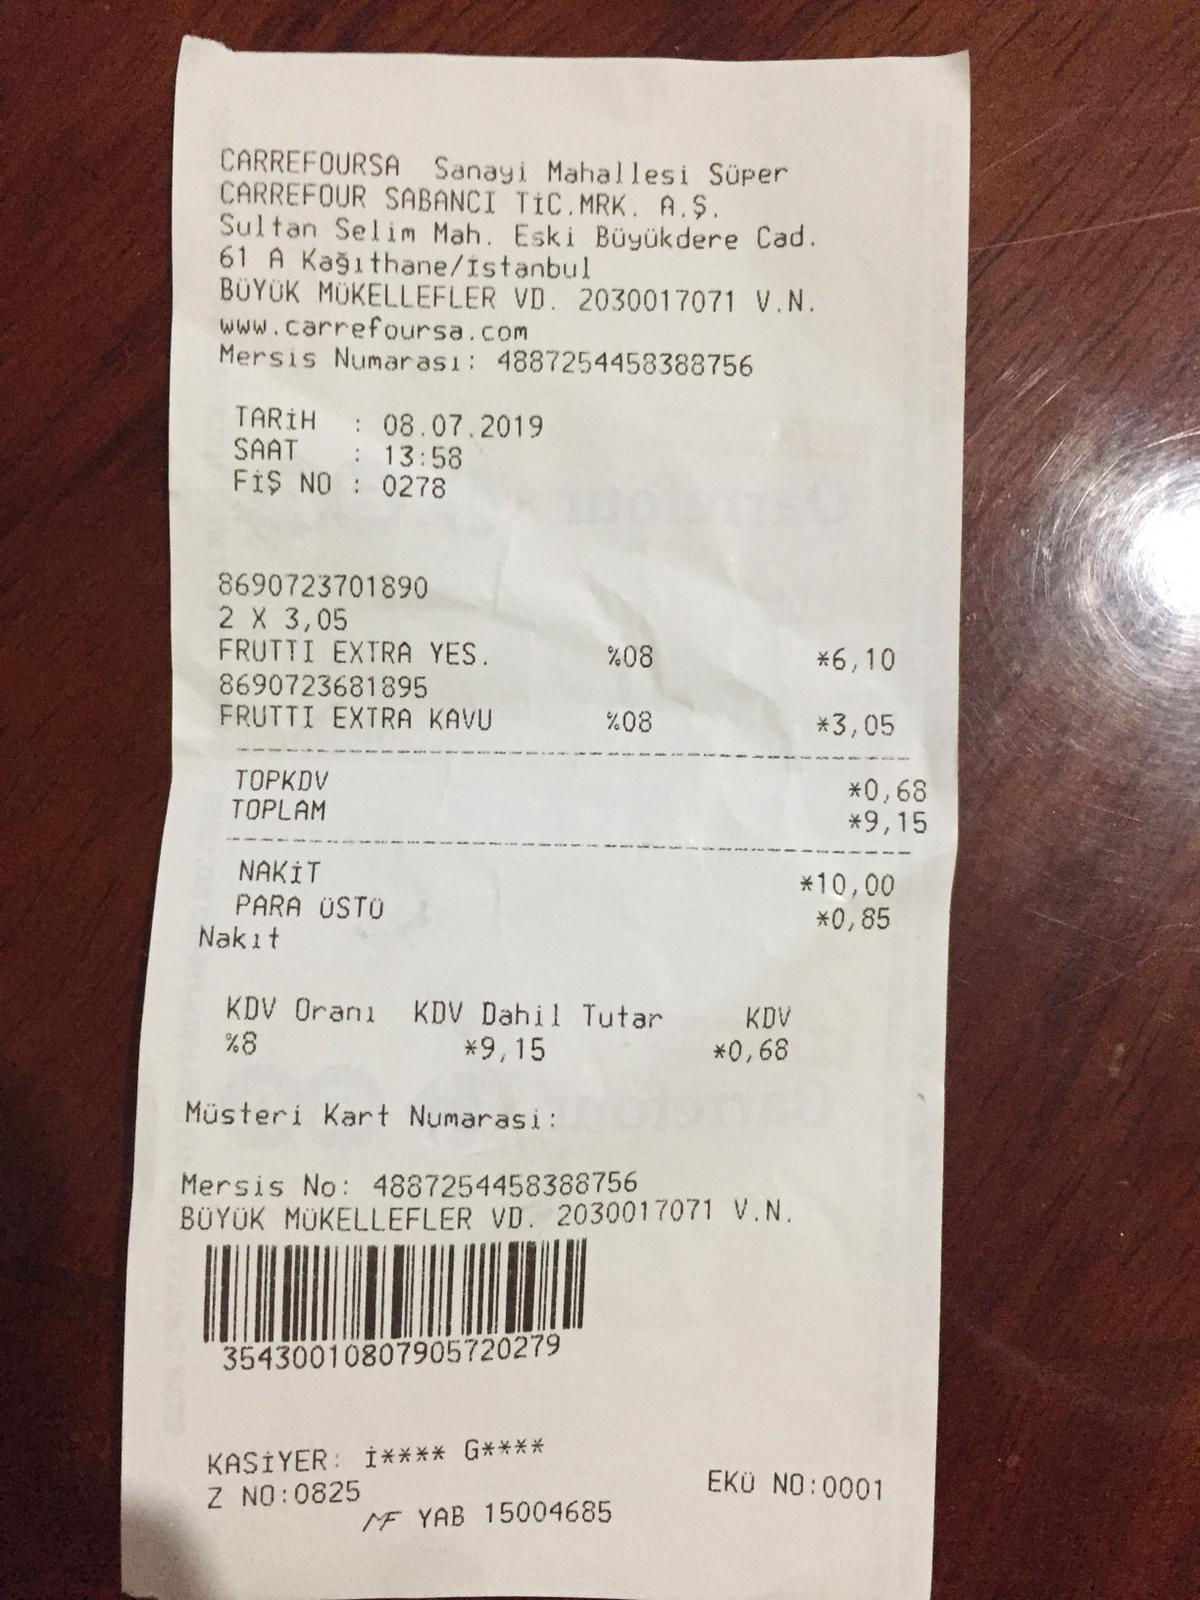total: (228, 793, 938, 838)
